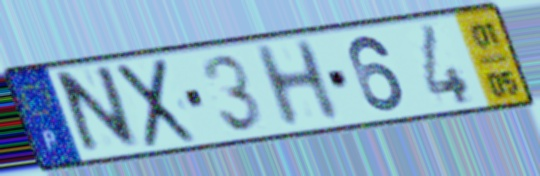3: (200, 53, 265, 132)
4: (418, 21, 474, 107)
6: (346, 32, 407, 114)
H: (248, 35, 346, 132)
N: (56, 61, 144, 161)
X: (113, 54, 200, 152)
